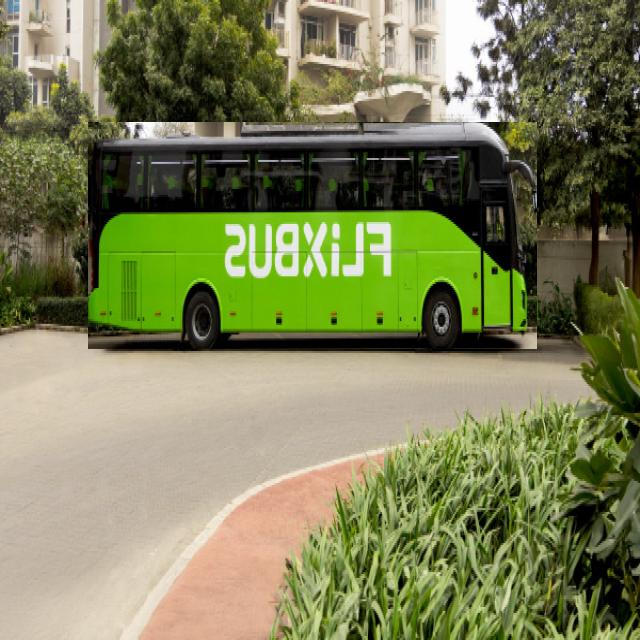bus: (89, 123, 537, 349)
